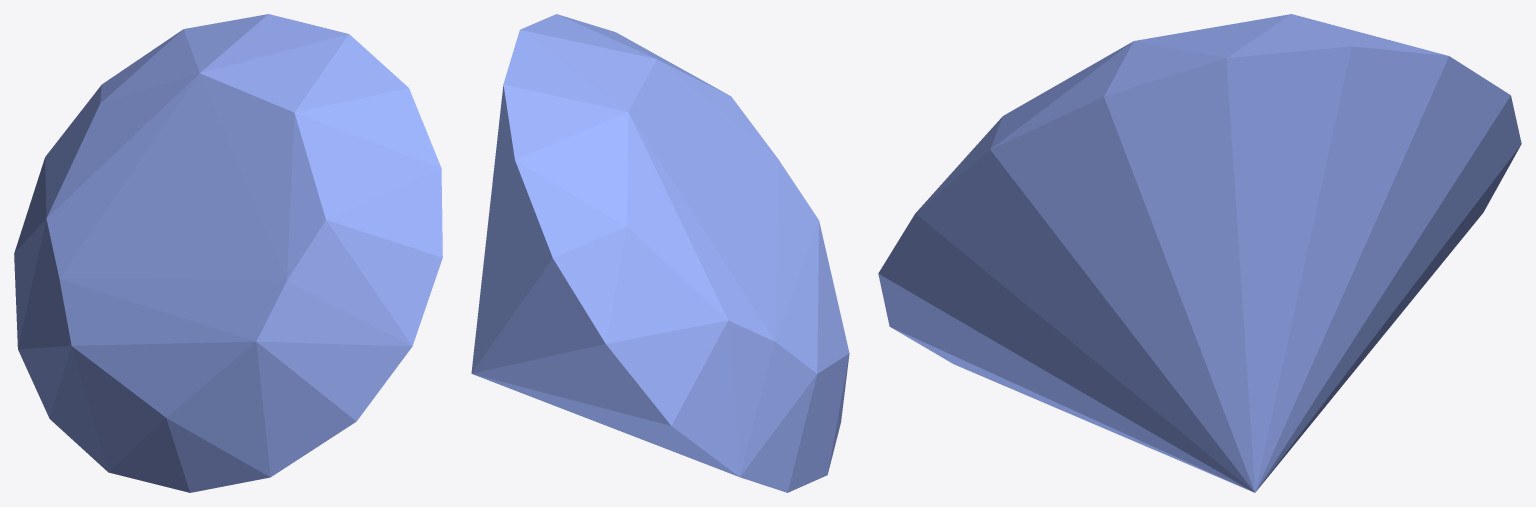
File: visual-diamond-4.glb
The picture shows the model from 3 angles, left to right: view 1: azimuth 30°, elevation 25°; view 2: azimuth 150°, elevation 25°; view 3: azimuth 270°, elevation 25°; orthographic projection. The views are drawn at different scales.
Visible parts, largest first — view 1: cyan veil-5.001; view 2: cyan veil-5.001; view 3: cyan veil-5.001.
Part boxes in pixels (<box>): cyan veil-5.001: <box>14,14,442,492</box>; cyan veil-5.001: <box>471,14,849,492</box>; cyan veil-5.001: <box>878,14,1521,492</box>.
Size of the model in its own units: 0.6628 by 0.738 by 0.9133.
